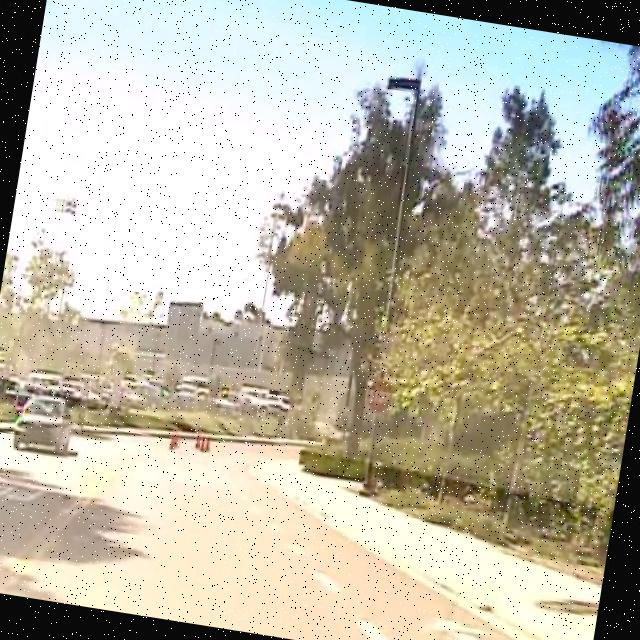Stop: (361, 377, 394, 418)
